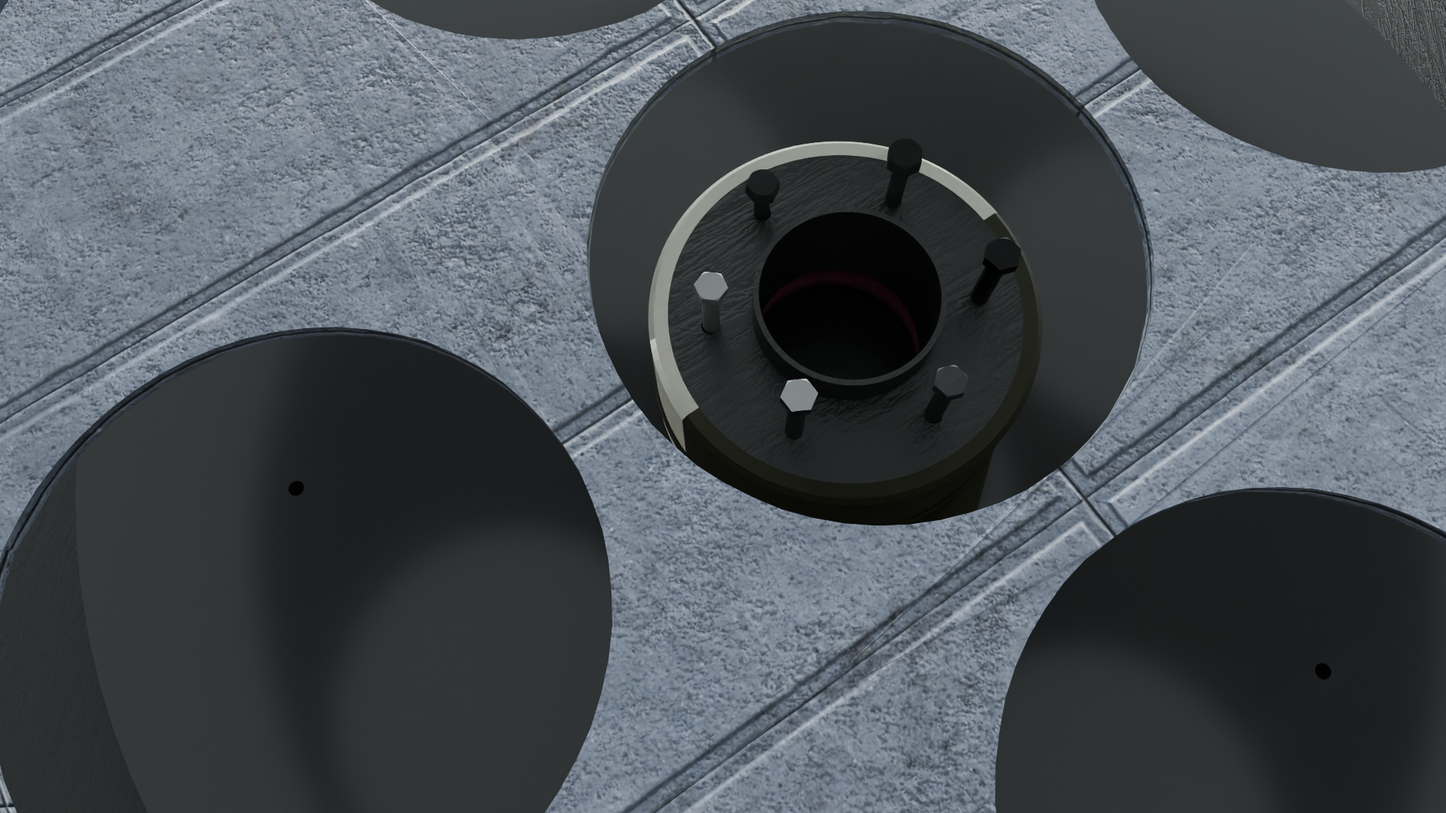bolt: (780, 379, 818, 412), (985, 237, 1021, 270), (934, 365, 969, 397), (889, 139, 923, 171), (694, 272, 728, 301), (746, 169, 779, 198)
